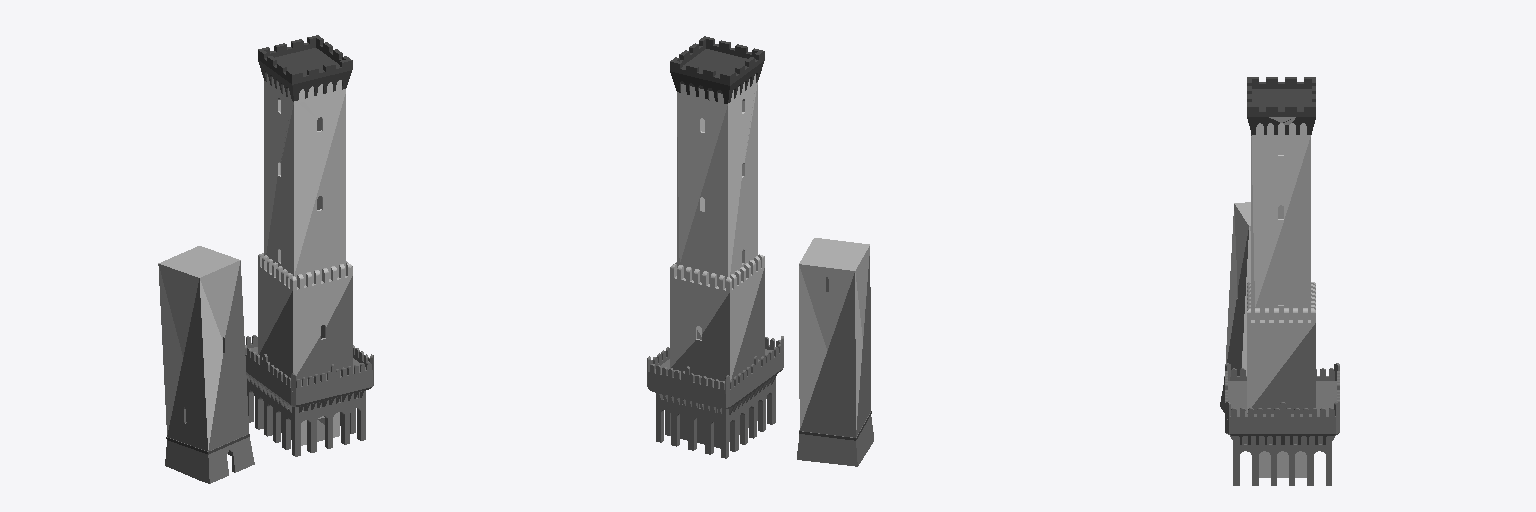
The model's file is TorriChiare.obj.
The picture shows the model from 3 angles: view 1: azimuth 30°, elevation 25°; view 2: azimuth 150°, elevation 25°; view 3: azimuth 270°, elevation 25°; orthographic projection.
Parts seen in each view (by area): view 1: Torri Gigatorre, MiniTorre Torri; view 2: Torri Gigatorre, MiniTorre Torri; view 3: Torri Gigatorre, MiniTorre Torri.
Part boxes in pixels (left/top/right/bottom): Torri Gigatorre: left=245, top=35, right=373, bottom=456; MiniTorre Torri: left=158, top=246, right=254, bottom=483; Torri Gigatorre: left=647, top=36, right=783, bottom=458; MiniTorre Torri: left=797, top=238, right=873, bottom=466; Torri Gigatorre: left=1225, top=77, right=1339, bottom=485; MiniTorre Torri: left=1220, top=202, right=1250, bottom=412.
Size of the model in its own units: 6.69 by 13.02 by 3.78.